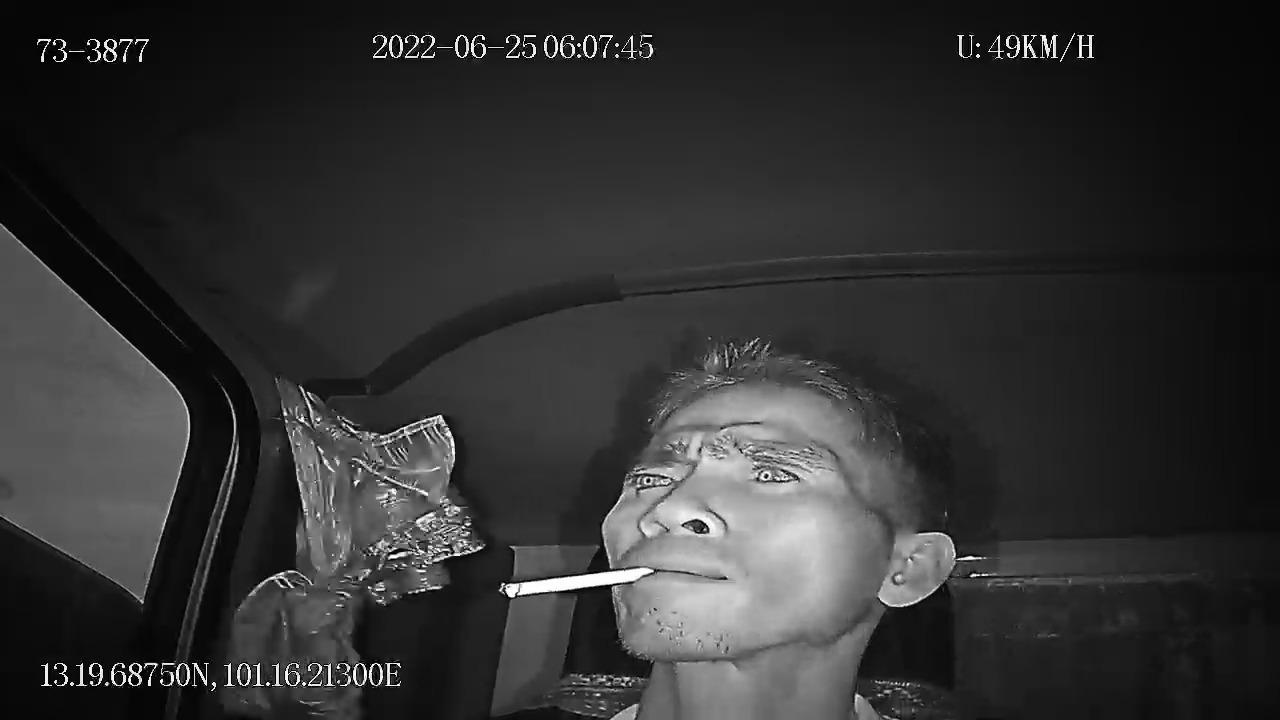Smoking: (481, 560, 677, 618)
